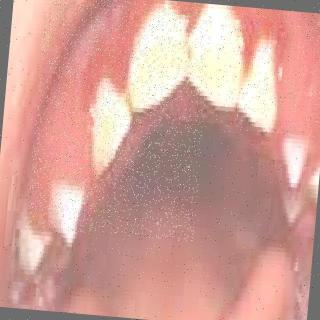Gum Swelling: (54, 29, 128, 99), (39, 111, 87, 201), (236, 8, 284, 58)
maligned: (123, 10, 193, 112), (188, 10, 248, 108)
plaque: (73, 76, 125, 128), (185, 8, 253, 46), (137, 7, 186, 50)
